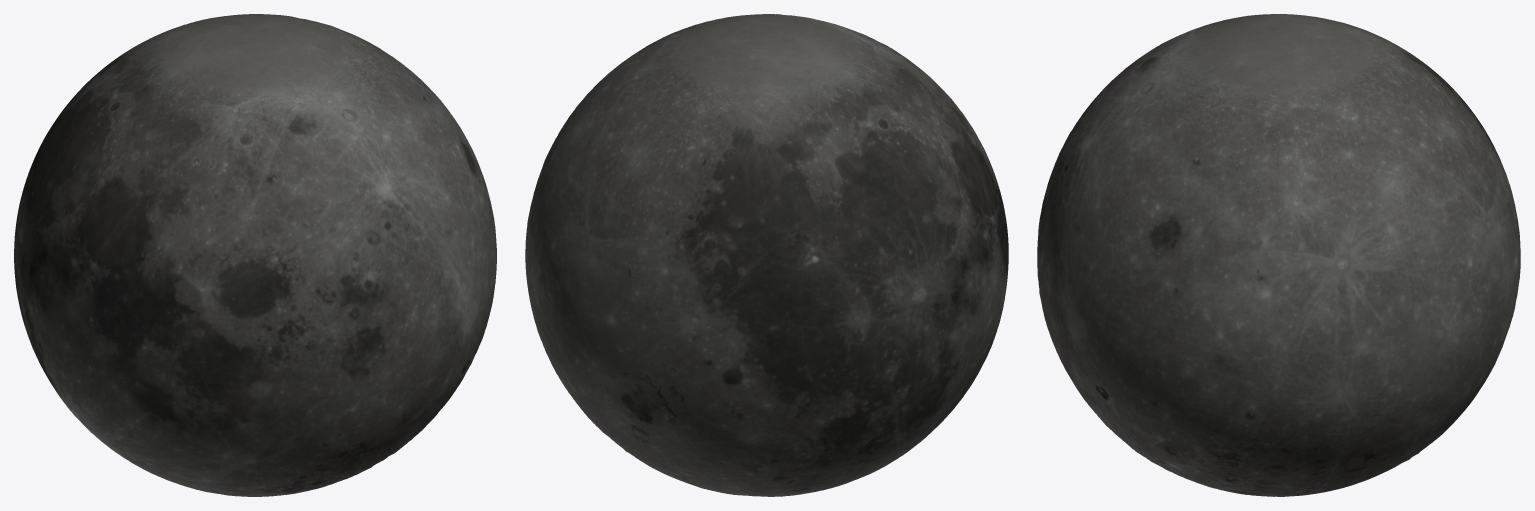
Rendered from moon.glb.
3 views of the same model, side by side, from view 1: azimuth 30°, elevation 25°; view 2: azimuth 150°, elevation 25°; view 3: azimuth 270°, elevation 25° (orthographic).
Parts seen in each view (by area): view 1: Moon 2-10, Moon 2-11, Moon 2-9, Moon 2-12, Moon 3-10, Moon 3-11, Moon 2-8, Moon 3-9, Moon 1-10, Moon 1-11, Moon 1-9, Moon 1-12 (+32 smaller); view 2: Moon 2-5, Moon 2-4, Moon 2-6, Moon 2-3, Moon 3-5, Moon 3-4, Moon 2-7, Moon 1-5, Moon 3-6, Moon 1-4, Moon 1-6, Moon 1-3 (+32 smaller); view 3: Moon 2-0, Moon 2-15, Moon 2-14, Moon 2-1, Moon 3-0, Moon 3-15, Moon 1-0, Moon 1-15, Moon 3-14, Moon 3-1, Moon 1-1, Moon 1-14 (+32 smaller).
Boxes of the visible parts, x1,y1,x2,y2 form: Moon 2-10: [193, 230, 286, 357]; Moon 2-11: [282, 222, 375, 356]; Moon 2-9: [108, 215, 201, 353]; Moon 2-12: [359, 199, 446, 343]; Moon 3-10: [193, 354, 286, 453]; Moon 3-11: [282, 343, 375, 452]; Moon 2-8: [46, 190, 128, 335]; Moon 3-9: [108, 336, 200, 450]; Moon 1-10: [201, 116, 282, 233]; Moon 1-11: [271, 111, 359, 232]; Moon 1-9: [128, 107, 223, 230]; Moon 1-12: [316, 98, 420, 221]; Moon 2-5: [736, 230, 829, 357]; Moon 2-4: [647, 221, 740, 356]; Moon 2-6: [821, 215, 914, 353]; Moon 2-3: [575, 199, 663, 343]; Moon 3-5: [736, 354, 829, 453]; Moon 3-4: [647, 344, 740, 452]; Moon 2-7: [894, 189, 976, 335]; Moon 1-5: [740, 116, 821, 233]; Moon 3-6: [821, 336, 914, 450]; Moon 1-4: [663, 111, 751, 232]; Moon 1-6: [799, 107, 894, 230]; Moon 1-3: [602, 97, 706, 221]; Moon 2-0: [1278, 227, 1371, 357]; Moon 2-15: [1186, 227, 1278, 357]; Moon 2-14: [1107, 208, 1198, 349]; Moon 2-1: [1359, 207, 1449, 349]; Moon 3-0: [1278, 350, 1371, 453]; Moon 3-15: [1186, 350, 1278, 453]; Moon 1-0: [1278, 113, 1358, 233]; Moon 1-15: [1198, 113, 1278, 233]; Moon 3-14: [1107, 328, 1198, 446]; Moon 3-1: [1358, 328, 1449, 446]; Moon 1-1: [1325, 102, 1426, 226]; Moon 1-14: [1131, 102, 1231, 226].
Bounding box in the file's own units: 2 × 2 × 2.
3 materials, 3 textured.
